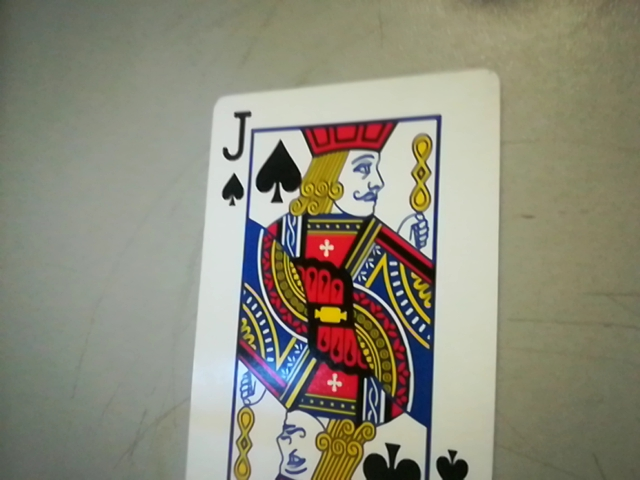ht j: (211, 103, 254, 209)
